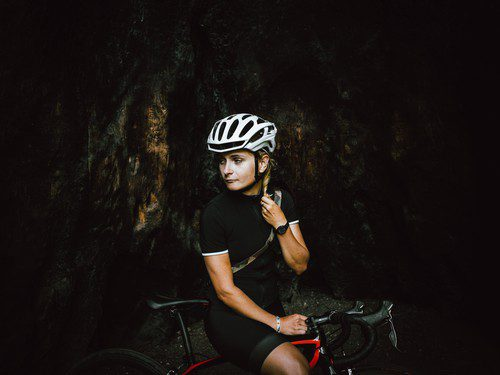helmet: (207, 113, 278, 191)
